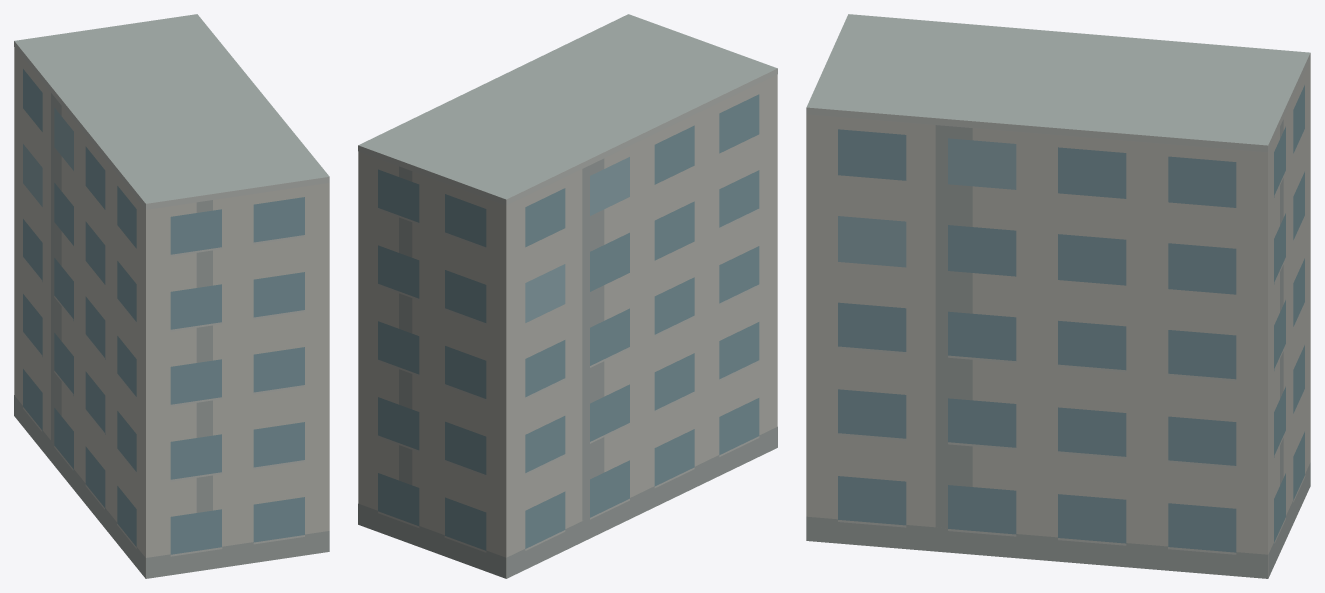
File: survey-upis-32630238.glb
3 views of the same model, side by side, from view 1: azimuth 30°, elevation 25°; view 2: azimuth 150°, elevation 25°; view 3: azimuth 270°, elevation 25° (orthographic). The views are drawn at different scales.
Visible parts, largest first — view 1: survey-upis-32630238.tmp; view 2: survey-upis-32630238.tmp; view 3: survey-upis-32630238.tmp.
Part boxes in pixels (x1,y1,x2,y2): survey-upis-32630238.tmp: [14, 14, 329, 578]; survey-upis-32630238.tmp: [358, 14, 777, 578]; survey-upis-32630238.tmp: [806, 14, 1310, 578].
Size of the model in its own units: 9.93 by 15.25 by 16.09.
